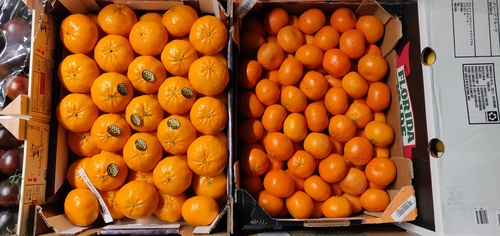orange: (88, 69, 137, 112), (184, 135, 228, 175), (188, 56, 229, 95), (59, 94, 101, 132)
